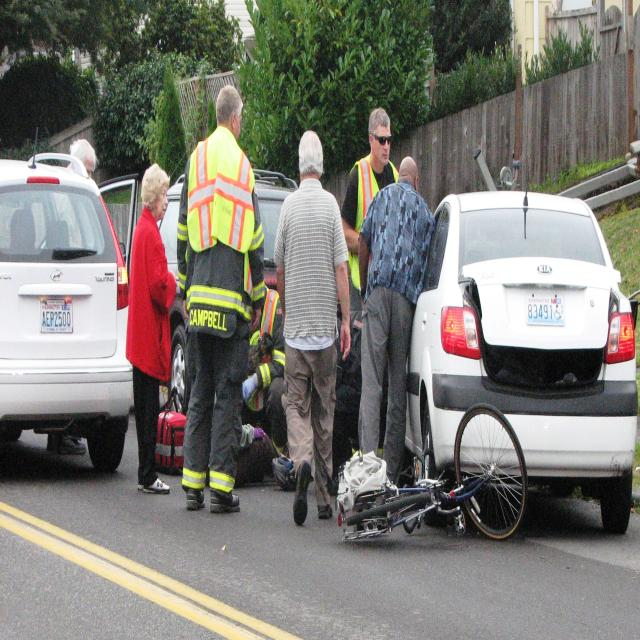misalignment: (458, 269, 606, 400)
